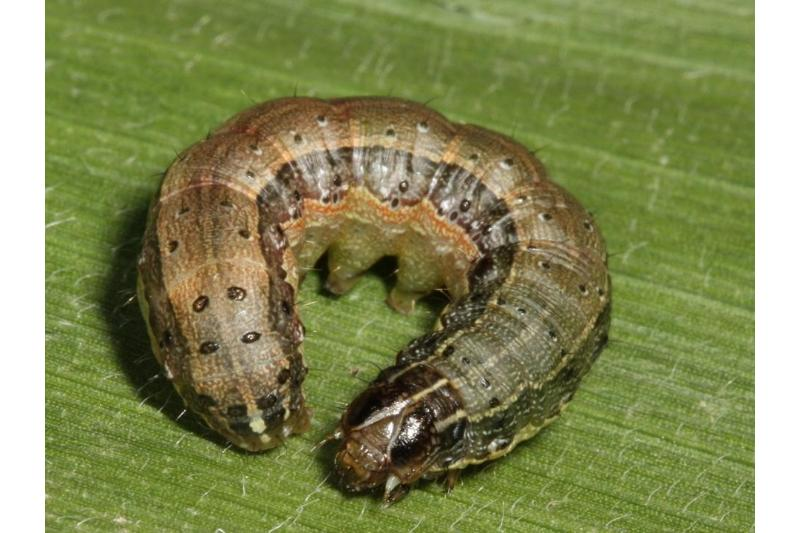fall-armyworm: (139, 96, 615, 509)
